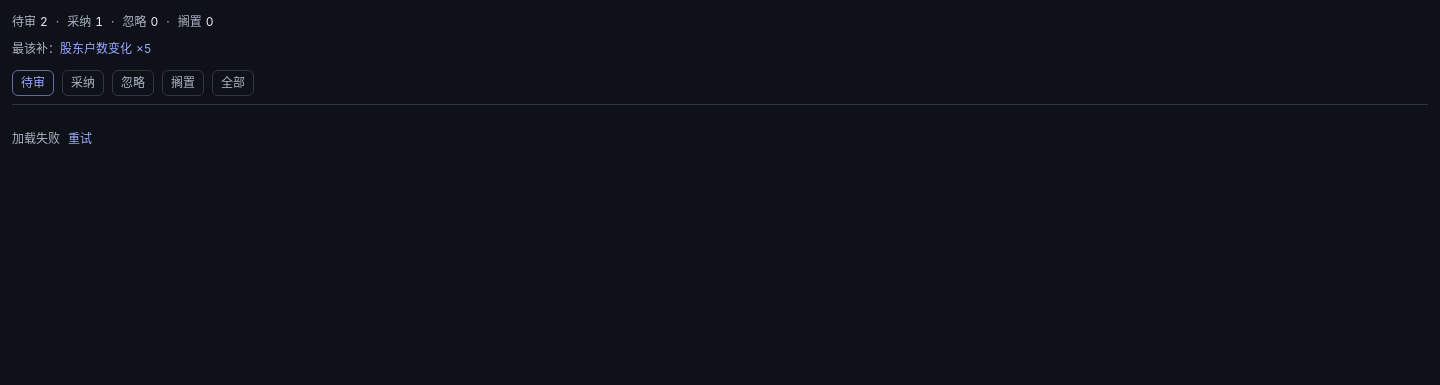
Test: ProposalPanel › 错误态：加载失败 + 重试，不伪装成空态；重试成功后出列表
Expected: the message with test id "proposal-error" shows "加载失败", [12,131,60,146]
Click the button with test id "proposal-retry". click: [80, 138]
box: [68,129,92,148]
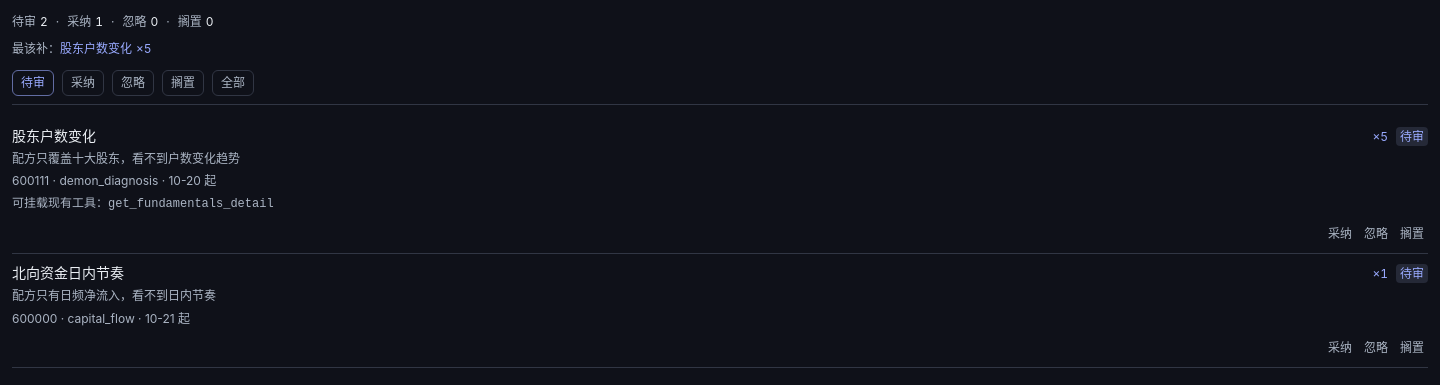
Expected: the number of list items with test id "proposal-row" is 2, [12,117,1428,254]; [12,254,1428,368]
Expected: the message with test id "proposal-error" is gone
